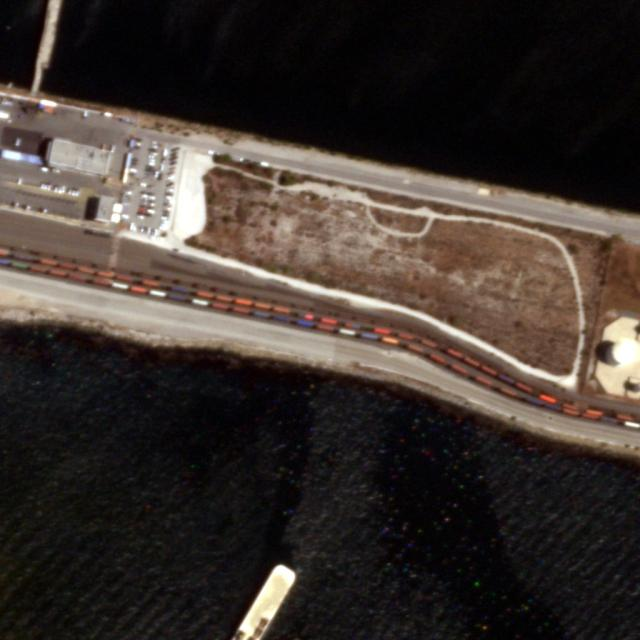water: (231, 562, 302, 639)
